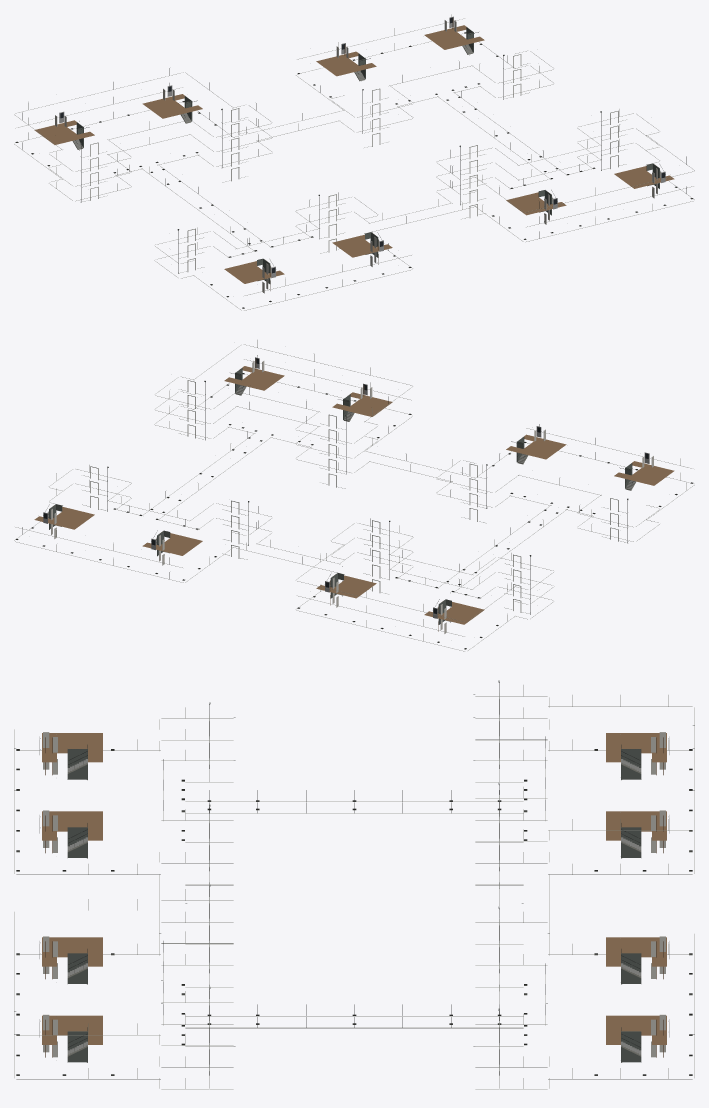
File: building-detail.glb
The picture shows the model from 3 angles, top to bottom: view 1: azimuth 30°, elevation 25°; view 2: azimuth 150°, elevation 25°; view 3: azimuth 270°, elevation 25°; orthographic projection. The views are drawn at different scales.
Visible parts, largest first — view 1: building/NW / hr_concrete_cast, building/SE / hr_concrete_cast, building/SW / hr_concrete_cast, building/NW / hr_floor_laminate, building/NE / hr_floor_laminate, building/NE / hr_concrete_cast, building/SW / hr_floor_laminate, building/SE / hr_floor_laminate; view 2: building/NW / hr_concrete_cast, building/SE / hr_concrete_cast, building/NE / hr_concrete_cast, building/SW / hr_floor_laminate, building/SE / hr_floor_laminate, building/SW / hr_concrete_cast, building/NW / hr_floor_laminate, building/NE / hr_floor_laminate; view 3: building/NW / hr_concrete_cast, building/NE / hr_floor_laminate, building/SE / hr_floor_laminate, building/NW / hr_floor_laminate, building/SW / hr_floor_laminate, building/NE / hr_concrete_cast, building/SE / hr_concrete_cast, building/SW / hr_concrete_cast, building/NE / hr_door_paint, building/SE / hr_door_paint, building/NW / hr_door_paint, building/SW / hr_door_paint (+4 smaller).
Part boxes in pixels (x1,y1,x2,y2): building/NW / hr_concrete_cast: (14,72,343,251); building/SE / hr_concrete_cast: (436,109,694,241); building/SW / hr_concrete_cast: (154,194,476,310); building/NW / hr_floor_laminate: (34,94,202,144); building/NE / hr_floor_laminate: (316,25,484,76); building/NE / hr_concrete_cast: (296,14,566,179); building/SW / hr_floor_laminate: (224,234,392,283); building/SE / hr_floor_laminate: (506,166,674,215); building/NW / hr_concrete_cast: (232,505,567,651); building/SE / hr_concrete_cast: (154,340,412,488); building/NE / hr_concrete_cast: (14,433,271,582); building/SW / hr_floor_laminate: (506,434,674,485); building/SE / hr_floor_laminate: (224,366,392,416); building/SW / hr_concrete_cast: (366,428,694,549); building/NW / hr_floor_laminate: (316,574,484,624); building/NE / hr_floor_laminate: (34,506,202,555); building/NW / hr_concrete_cast: (185,685,694,955); building/NE / hr_floor_laminate: (606,937,666,1044); building/SE / hr_floor_laminate: (42,937,102,1044); building/NW / hr_floor_laminate: (606,733,666,840); building/SW / hr_floor_laminate: (42,733,102,840); building/NE / hr_concrete_cast: (185,912,694,1089); building/SE / hr_concrete_cast: (14,889,355,1089); building/SW / hr_concrete_cast: (14,707,355,955); building/NE / hr_door_paint: (621,941,669,1062); building/SE / hr_door_paint: (39,941,87,1062); building/NW / hr_door_paint: (621,736,669,857); building/SW / hr_door_paint: (39,736,87,857).
Bounding box in the file's own units: 103 × 15.21 × 84.53.
